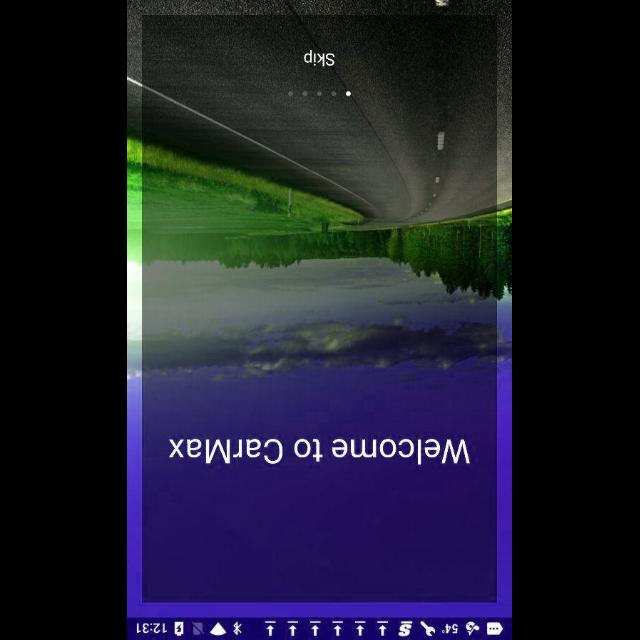backgroundimage: (128, 1, 512, 616)
pageindicator: (288, 90, 352, 96)
text: (168, 438, 472, 464), (304, 50, 336, 66)
uppertaskbar: (128, 617, 512, 639)
